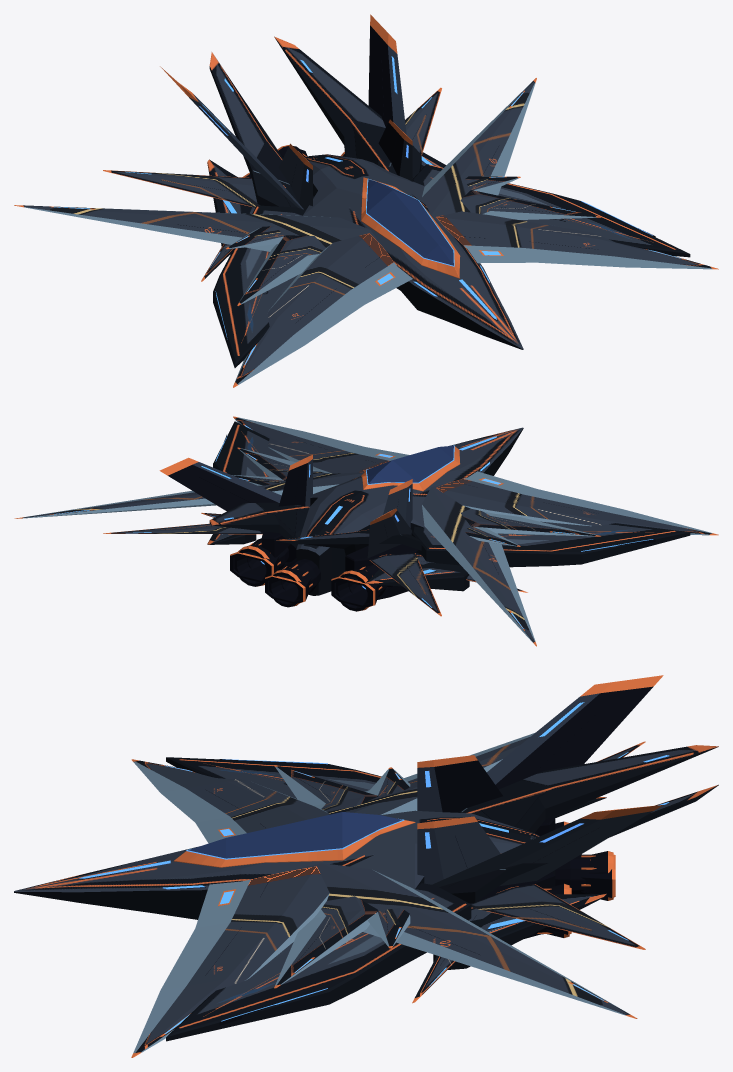
The model's file is R18_LIBRARY_OBSIDIAN.glb.
The picture shows the model from 3 angles, top to bottom: view 1: azimuth 30°, elevation 25°; view 2: azimuth 150°, elevation 25°; view 3: azimuth 270°, elevation 25°; orthographic projection. The views are drawn at different scales.
Visible parts, largest first — view 1: A01_Central_Faceted_Monocoque, W02A_Full_Wing_L, W02A_Full_Wing_R, W03_Full_Wing_L, W03_Full_Wing_R, B01_MainWing_L, C02_Swept_Dorsal_Keel_R, B01_MainWing_R, C02_Swept_Dorsal_Keel_L, D02_Canopy_Closed_Faceted_Glass, T02_Canted_Fin_R, W02B_Full_Wing_L (+10 smaller); view 2: A01_Central_Faceted_Monocoque, W02A_Full_Wing_L, B01_MainWing_L, W03_Full_Wing_L, W02A_Full_Wing_R, T02_Canted_Fin_R, W03_Full_Wing_R, C02_Swept_Dorsal_Keel_R, B01_MainWing_R, D02_Canopy_Closed_Faceted_Glass, W02B_Full_Wing_L, A02_Blade_L (+19 smaller); view 3: W02A_Full_Wing_R, A01_Central_Faceted_Monocoque, B01_MainWing_R, W03_Full_Wing_R, C02_Swept_Dorsal_Keel_L, W02A_Full_Wing_L, T02_Canted_Fin_L, T02_Canted_Fin_R, D02_Canopy_Closed_Faceted_Glass, T03_Canted_Fin_R, A02_Blade_R, W02B_Full_Wing_R (+12 smaller).
Boxes of the visible parts, x1=… form: A01_Central_Faceted_Monocoque: x1=303, y1=154, x2=523, y2=349; W02A_Full_Wing_L: x1=233, y1=233, x2=412, y2=387; W02A_Full_Wing_R: x1=436, y1=211, x2=718, y2=269; W03_Full_Wing_L: x1=14, y1=205, x2=380, y2=251; W03_Full_Wing_R: x1=422, y1=78, x2=536, y2=227; B01_MainWing_L: x1=213, y1=205, x2=305, y2=367; C02_Swept_Dorsal_Keel_R: x1=274, y1=36, x2=421, y2=178; B01_MainWing_R: x1=412, y1=164, x2=690, y2=257; C02_Swept_Dorsal_Keel_L: x1=209, y1=52, x2=313, y2=207; D02_Canopy_Closed_Faceted_Glass: x1=366, y1=179, x2=453, y2=265; T02_Canted_Fin_R: x1=368, y1=14, x2=406, y2=134; W02B_Full_Wing_L: x1=237, y1=235, x2=325, y2=305; A01_Central_Faceted_Monocoque: x1=296, y1=427, x2=523, y2=595; W02A_Full_Wing_L: x1=436, y1=471, x2=718, y2=535; B01_MainWing_L: x1=411, y1=521, x2=690, y2=567; W03_Full_Wing_L: x1=422, y1=483, x2=536, y2=646; W02A_Full_Wing_R: x1=233, y1=416, x2=409, y2=473; T02_Canted_Fin_R: x1=159, y1=457, x2=281, y2=532; W03_Full_Wing_R: x1=14, y1=472, x2=363, y2=518; C02_Swept_Dorsal_Keel_R: x1=209, y1=502, x2=309, y2=548; B01_MainWing_R: x1=213, y1=421, x2=289, y2=476; D02_Canopy_Closed_Faceted_Glass: x1=366, y1=445, x2=453, y2=483; W02B_Full_Wing_L: x1=461, y1=508, x2=600, y2=536; A02_Blade_L: x1=369, y1=553, x2=441, y2=616; W02A_Full_Wing_R: x1=131, y1=866, x2=329, y2=1057; A01_Central_Faceted_Monocoque: x1=14, y1=810, x2=555, y2=919; B01_MainWing_R: x1=166, y1=883, x2=471, y2=1041; W03_Full_Wing_R: x1=288, y1=863, x2=637, y2=1018; C02_Swept_Dorsal_Keel_L: x1=458, y1=745, x2=718, y2=833; W02A_Full_Wing_L: x1=131, y1=759, x2=329, y2=843; T02_Canted_Fin_L: x1=487, y1=675, x2=663, y2=789; T02_Canted_Fin_R: x1=432, y1=805, x2=662, y2=886; D02_Canopy_Closed_Faceted_Glass: x1=188, y1=812, x2=402, y2=858; T03_Canted_Fin_R: x1=417, y1=816, x2=500, y2=884; A02_Blade_R: x1=471, y1=884, x2=645, y2=949; W02B_Full_Wing_R: x1=274, y1=896, x2=378, y2=988.
Bounding box in the file's own units: 10.84 × 2.66 × 10.06.
27 materials, 19 textured.
